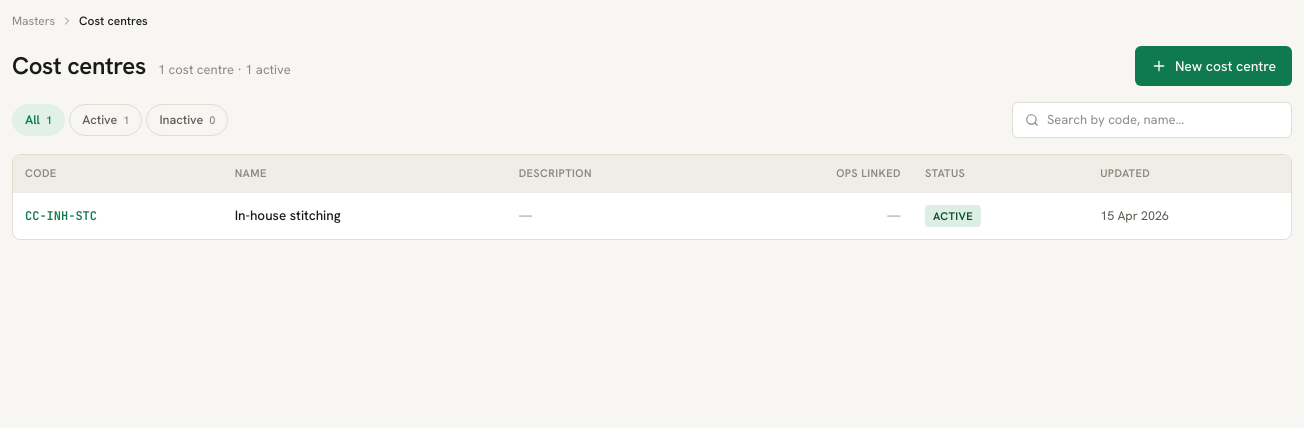
Scenario: CostCentresList (live-mode integration, TASK-TR-E1-COSTCENTRES) › filtered-empty: search with no matches renders the "Clear filter" CTA
This screenshot has width=1304, height=428.
Check: the text "In-house stitching" is shown, box [235,206,341,224]
Type "vendor warehouse" into the search field named "search cost centres". click: (1163, 120)
box: [1047,110,1279,130]
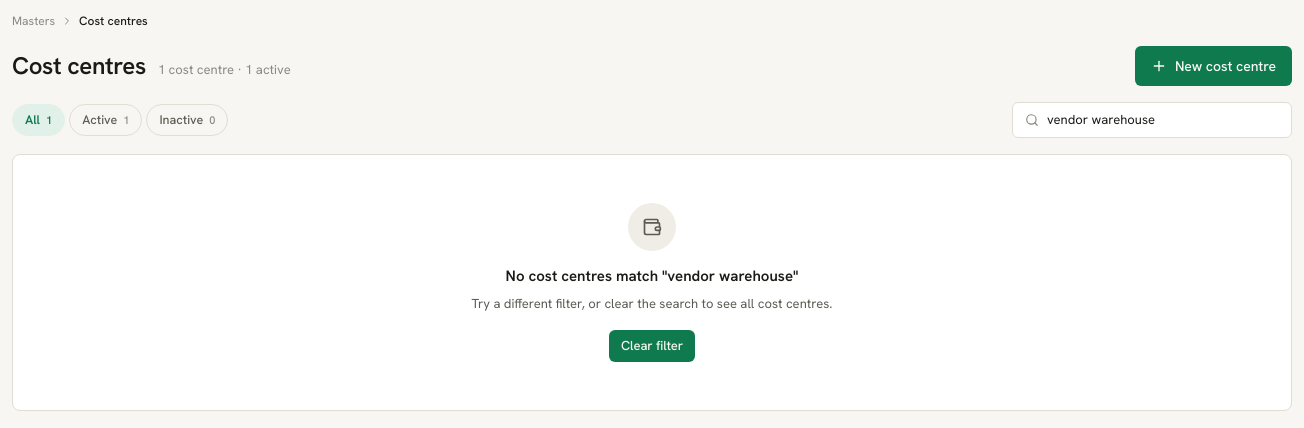
Check: the heading "No cost centres match \"vendor warehouse\"" is shown, box [506,265,798,288]
Check: the button "Clear filter" is shown, box [609,330,695,362]
